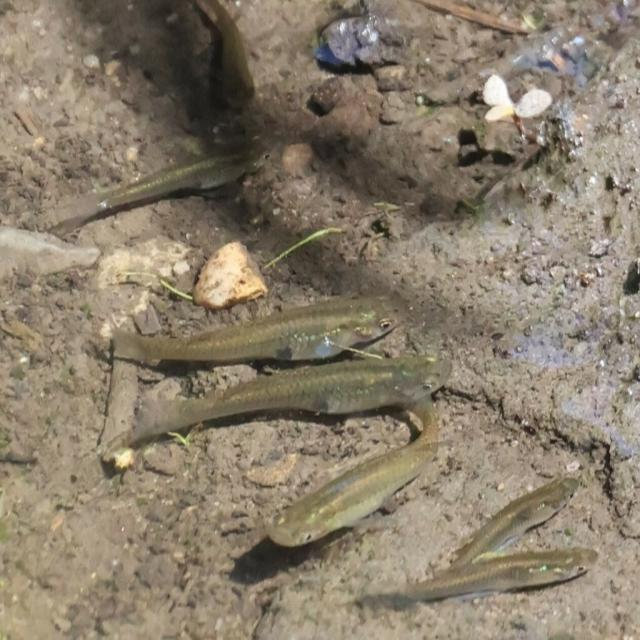Sivrisinek Baligi: (120, 347, 450, 444), (281, 396, 443, 552), (29, 146, 272, 243), (103, 294, 398, 358), (381, 535, 601, 610), (456, 460, 580, 566)
